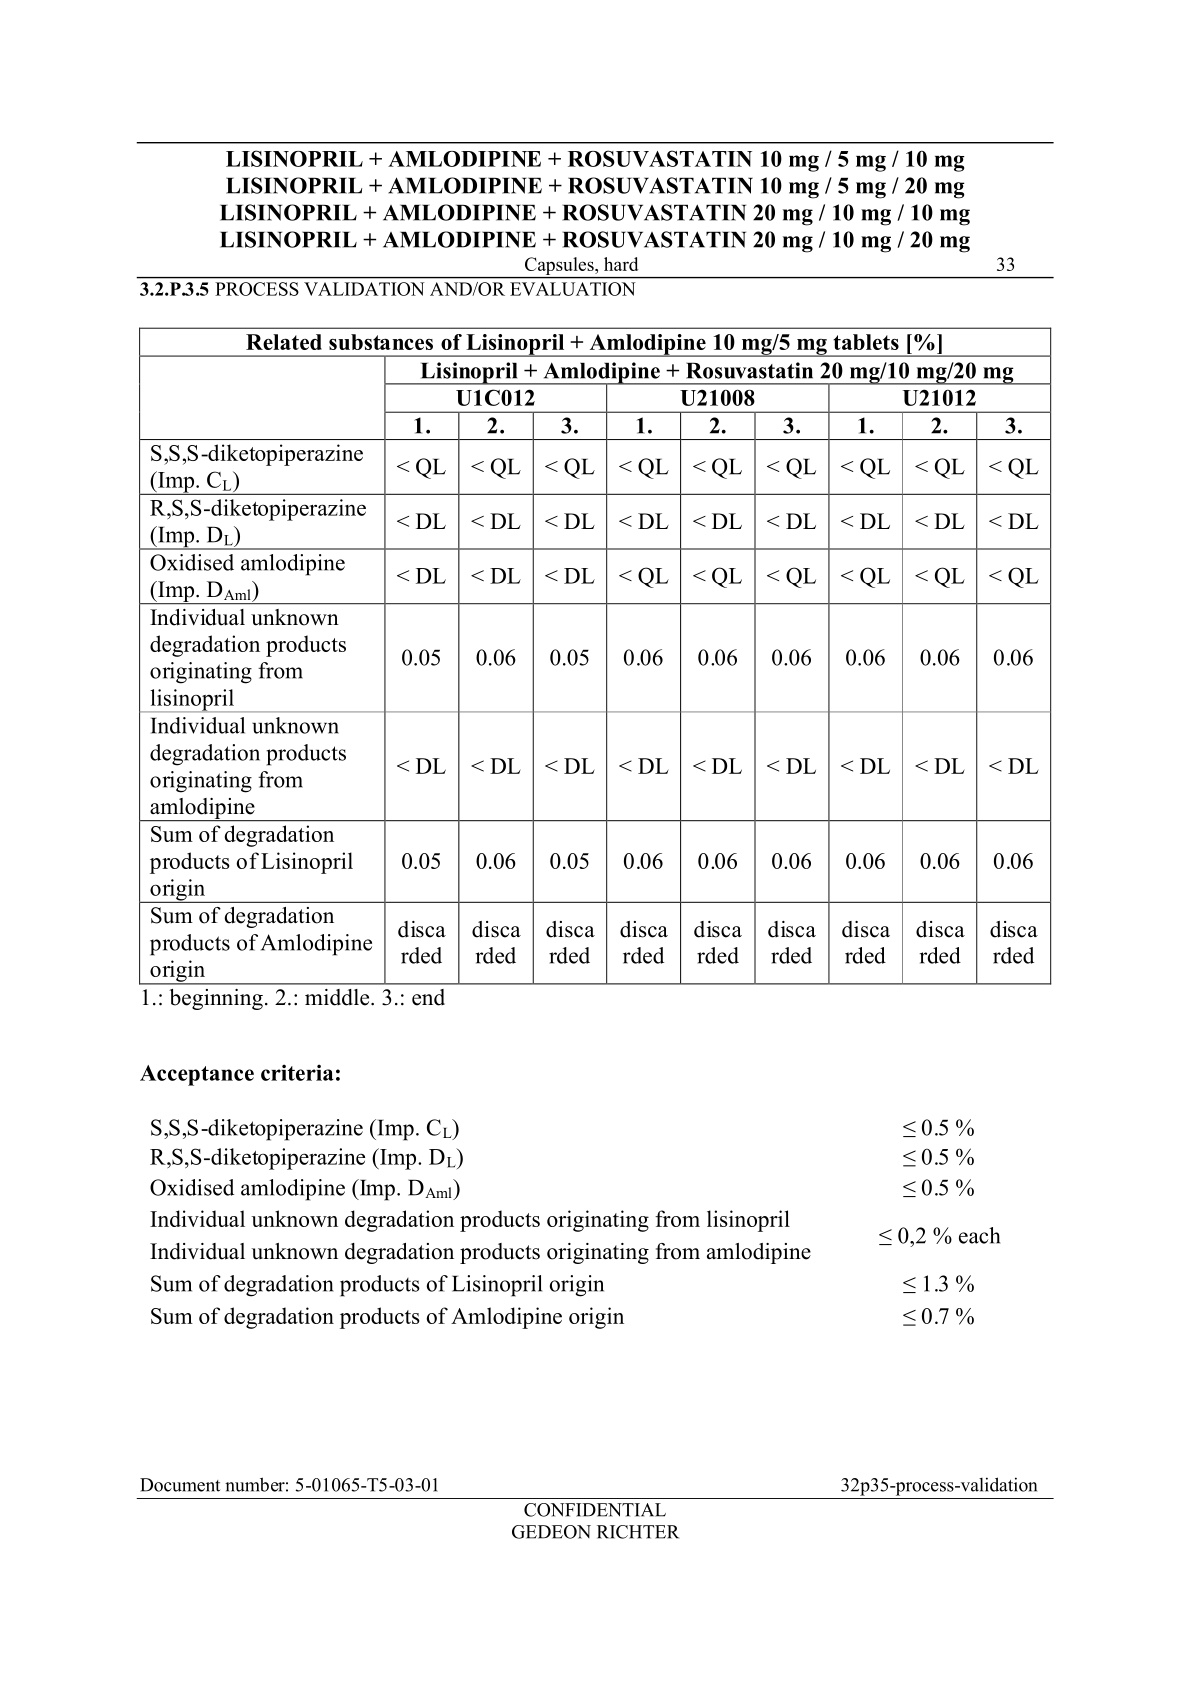merged_cells: (137, 325, 1052, 984)
nolines: (147, 1115, 1000, 1328)
